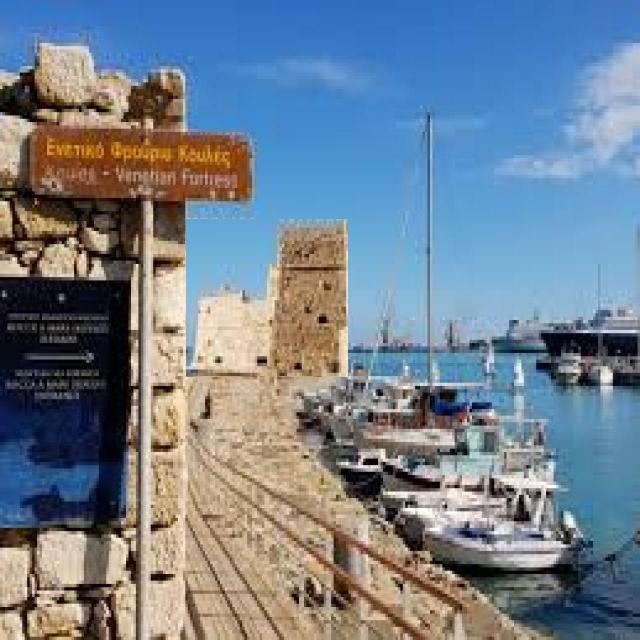Kules: (187, 220, 349, 378)
